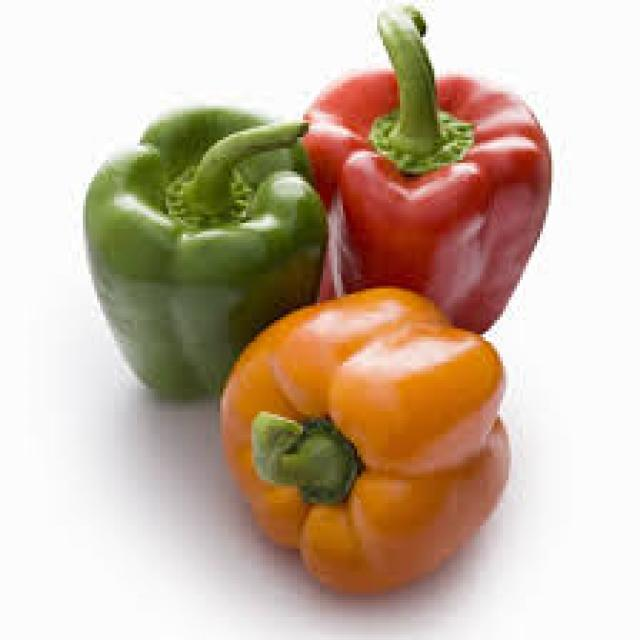organic waste: (214, 277, 509, 594), (297, 0, 551, 331), (83, 103, 323, 403)
